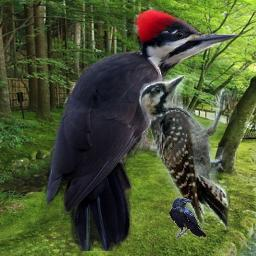Crow: (169, 197, 207, 238)
Woodpecker: (36, 7, 243, 251), (138, 75, 237, 231)
